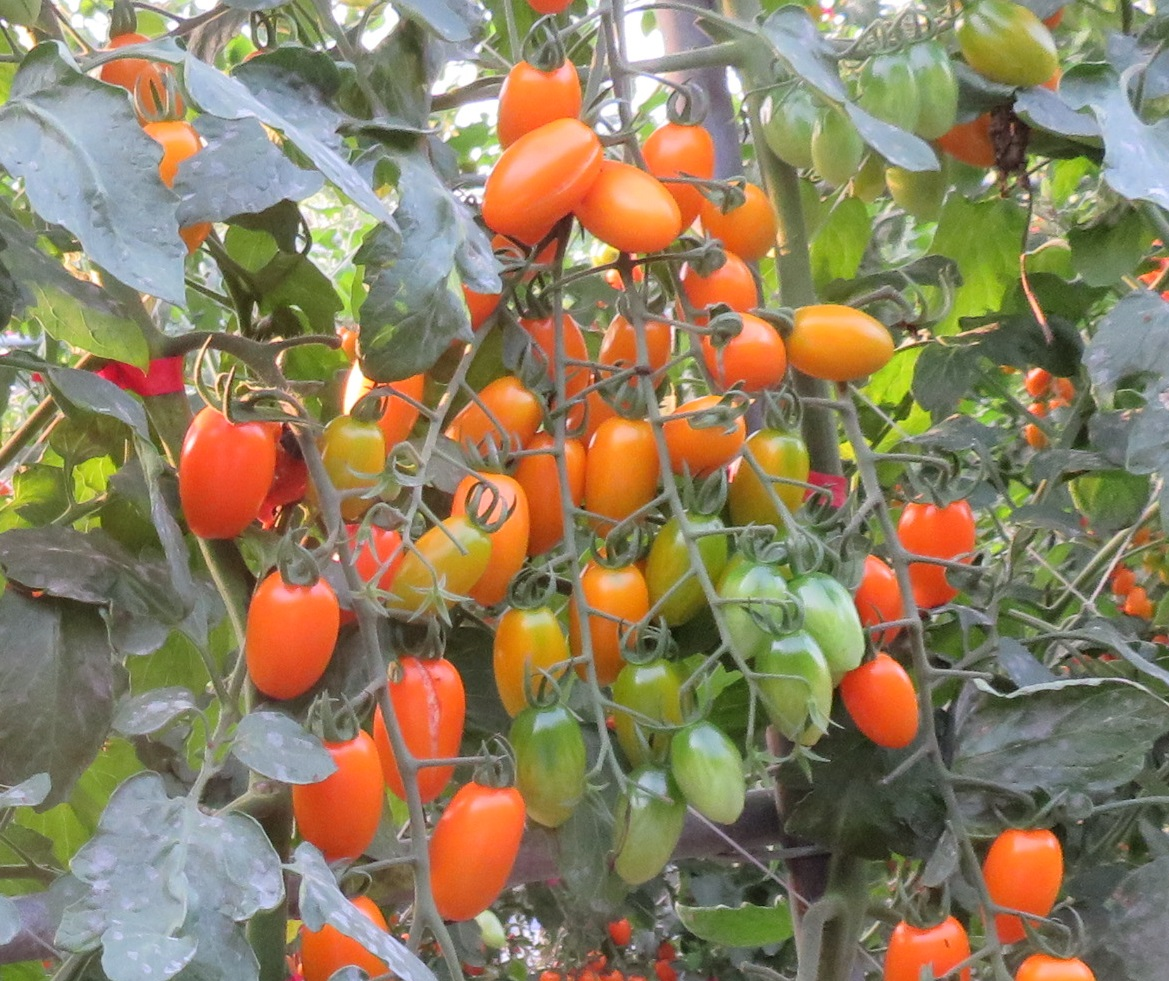green: (510, 700, 585, 827), (733, 427, 818, 539), (754, 630, 832, 750), (957, 1, 1062, 89), (649, 510, 729, 625), (668, 725, 756, 826), (788, 569, 867, 675), (713, 551, 789, 659), (613, 659, 691, 762), (621, 767, 676, 890), (753, 64, 816, 171), (318, 418, 389, 499), (917, 34, 965, 142), (854, 53, 914, 135), (811, 107, 862, 190), (884, 164, 947, 215)
orange: (175, 393, 276, 549), (478, 119, 606, 233), (423, 777, 524, 920), (559, 150, 682, 261), (288, 724, 384, 866), (240, 565, 339, 698), (379, 650, 459, 805), (458, 470, 529, 607), (981, 831, 1061, 947), (781, 301, 899, 377), (579, 418, 655, 529), (520, 427, 587, 552), (569, 562, 637, 679), (490, 58, 581, 145), (661, 387, 747, 479), (304, 895, 396, 981), (98, 34, 188, 121), (697, 315, 793, 395), (848, 659, 924, 756), (518, 310, 592, 399), (700, 176, 787, 251), (451, 379, 540, 452), (598, 310, 676, 392), (646, 109, 717, 196), (899, 498, 983, 568), (680, 256, 762, 317), (854, 556, 907, 647), (880, 926, 967, 981), (134, 119, 205, 168), (606, 918, 631, 950), (1027, 366, 1051, 398), (1125, 586, 1149, 617)
